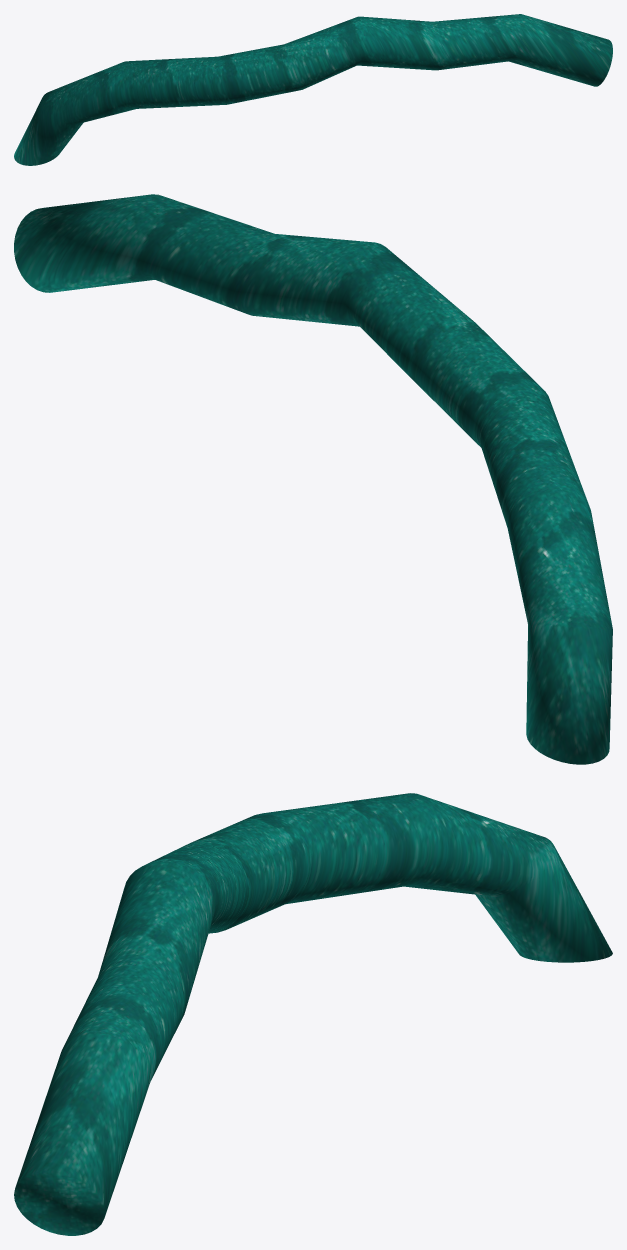
Rendered from branche1.fbx.
3 views of the same model, one above another, from view 1: azimuth 30°, elevation 25°; view 2: azimuth 150°, elevation 25°; view 3: azimuth 270°, elevation 25° (orthographic). The views are drawn at different scales.
Parts seen in each view (by area): view 1: Cylinder.003; view 2: Cylinder.003; view 3: Cylinder.003.
Part boxes in pixels (bbox=[...]): Cylinder.003: bbox=[14, 14, 612, 165]; Cylinder.003: bbox=[14, 194, 612, 764]; Cylinder.003: bbox=[14, 793, 612, 1235].
Size of the model in its own units: 413 by 137 by 241.
1 material, 1 textured.
